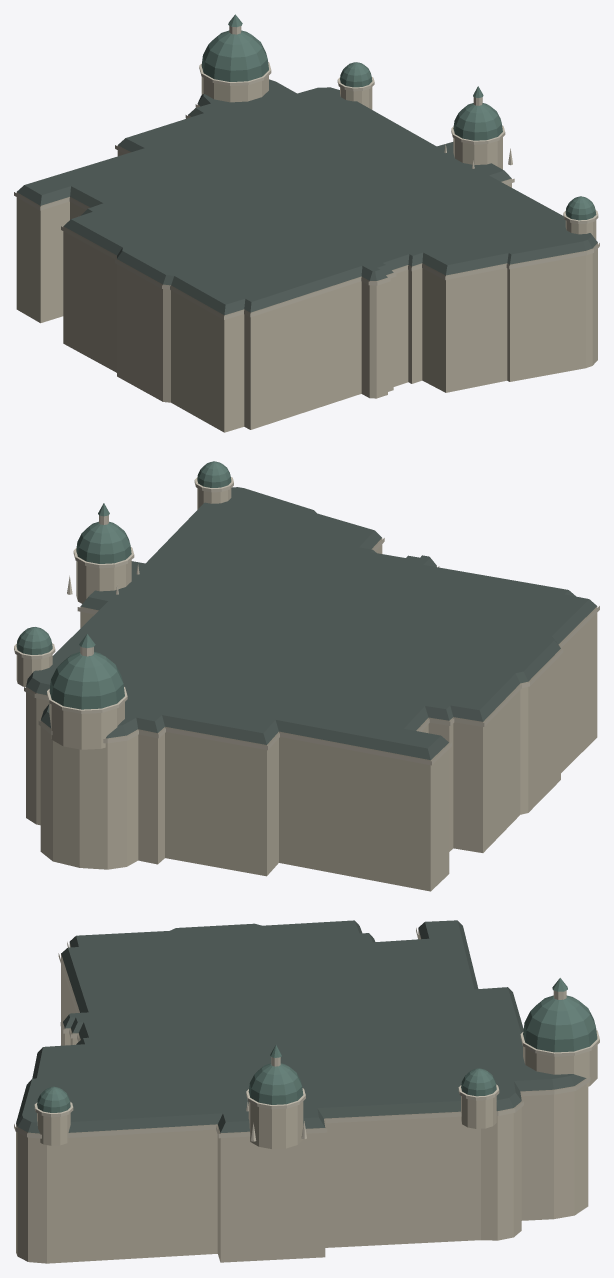
Rendered from gellertHotel.glb.
3 views of the same model, one above another, from view 1: azimuth 30°, elevation 25°; view 2: azimuth 150°, elevation 25°; view 3: azimuth 270°, elevation 25° (orthographic). The views are drawn at different scales.
Visible parts, largest first — view 1: gellertHotel; view 2: gellertHotel; view 3: gellertHotel.
Part boxes in pixels (left/top/right/bottom): gellertHotel: left=14, top=14, right=599, bottom=432; gellertHotel: left=14, top=461, right=599, bottom=891; gellertHotel: left=14, top=920, right=599, bottom=1263.
Size of the model in its own units: 102 by 48.15 by 117.
